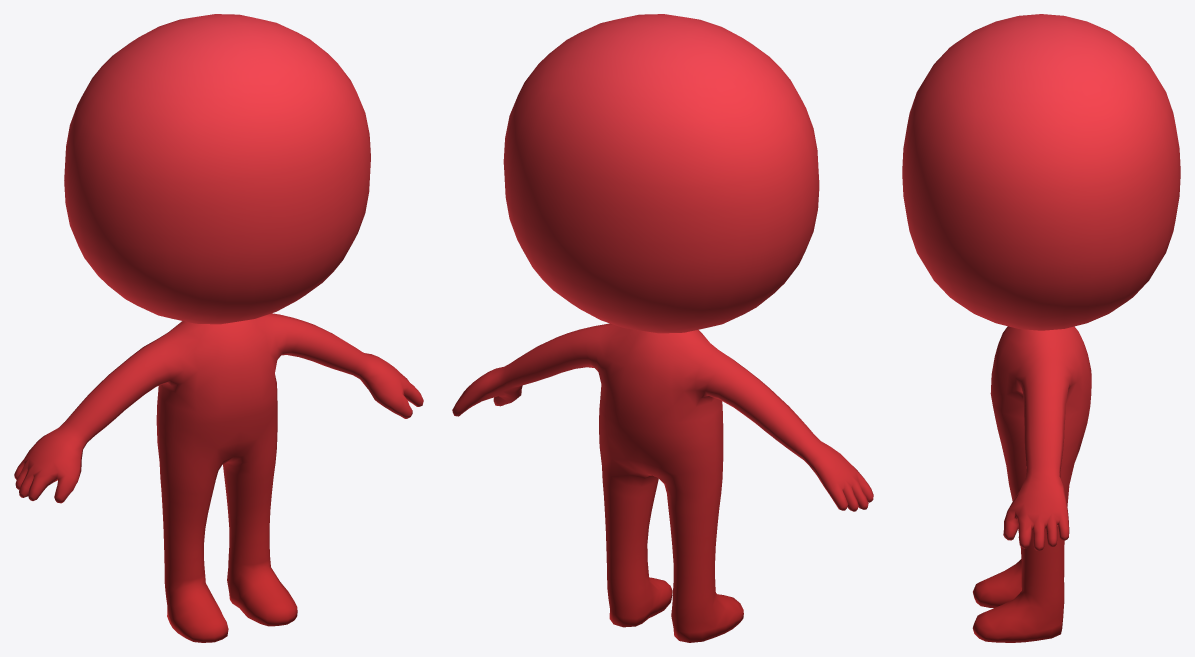
Rendered from Body_01.glb.
The picture shows the model from 3 angles, left to right: view 1: azimuth 30°, elevation 25°; view 2: azimuth 150°, elevation 25°; view 3: azimuth 270°, elevation 25°; orthographic projection. The views are drawn at different scales.
Parts seen in each view (by area): view 1: Body_01; view 2: Body_01; view 3: Body_01.
Boxes of the visible parts, x1,y1,x2,y2 form: Body_01: [14, 14, 423, 642]; Body_01: [452, 14, 873, 642]; Body_01: [902, 14, 1180, 642].
Size of the model in its own units: 0.828 by 1.15 by 0.4965.
Materials: 1 (1 with a texture image).
